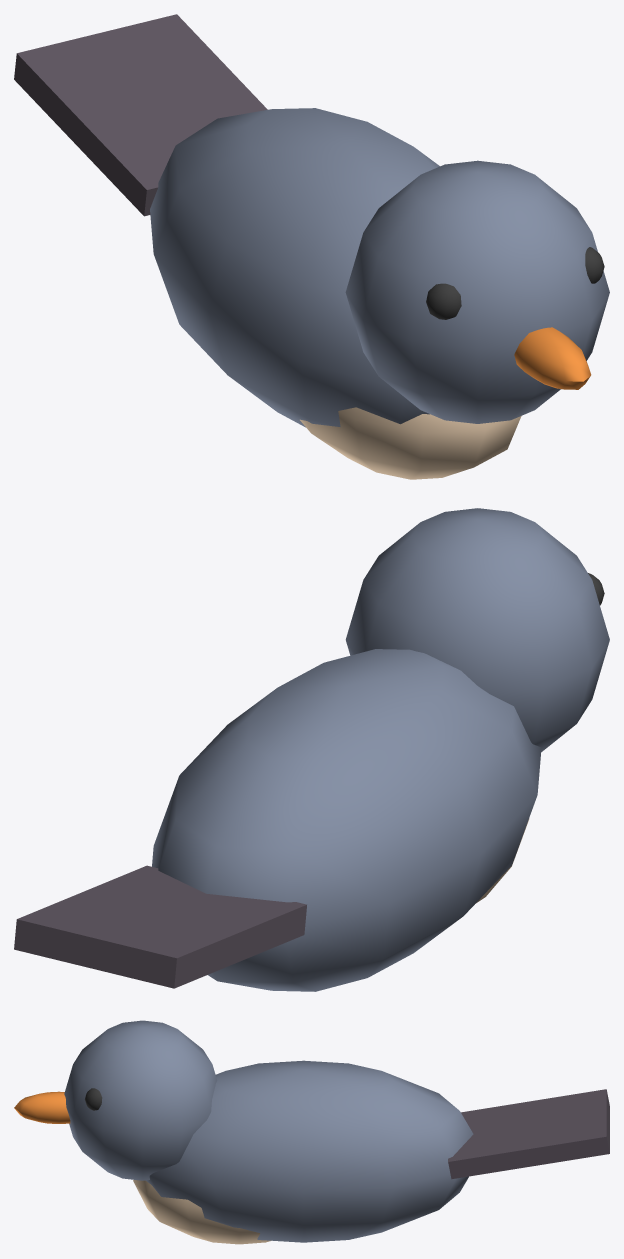
The model's file is bird_body_slate.glb.
3 renders of one model, top to bottom at view 1: azimuth 30°, elevation 25°; view 2: azimuth 150°, elevation 25°; view 3: azimuth 270°, elevation 25°, orthographic. The views are drawn at different scales.
Parts seen in each view (by area): view 1: bird_body_slate; view 2: bird_body_slate; view 3: bird_body_slate.
Part boxes in pixels (box(x1,y1,x2,y2)): bird_body_slate: box(14, 14, 609, 479); bird_body_slate: box(14, 508, 609, 991); bird_body_slate: box(14, 1020, 609, 1244).
Size of the model in its own units: 0.119 by 0.1435 by 0.3703.
